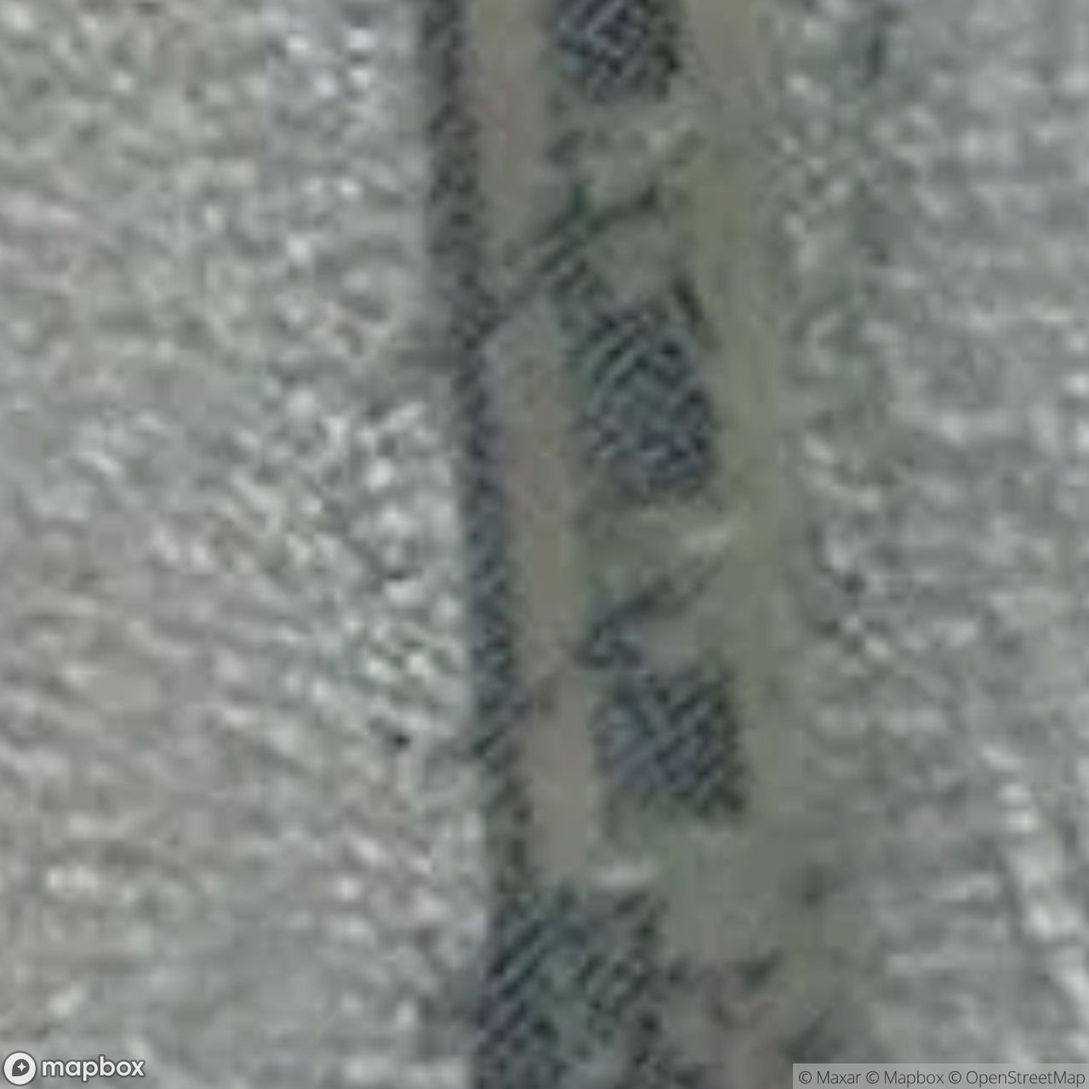Wreck: (369, 0, 883, 1078)
